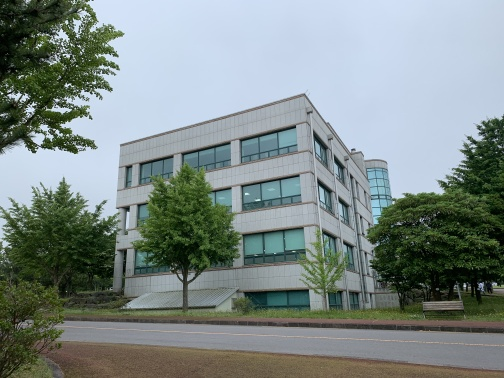Second Library: (116, 98, 393, 326)
